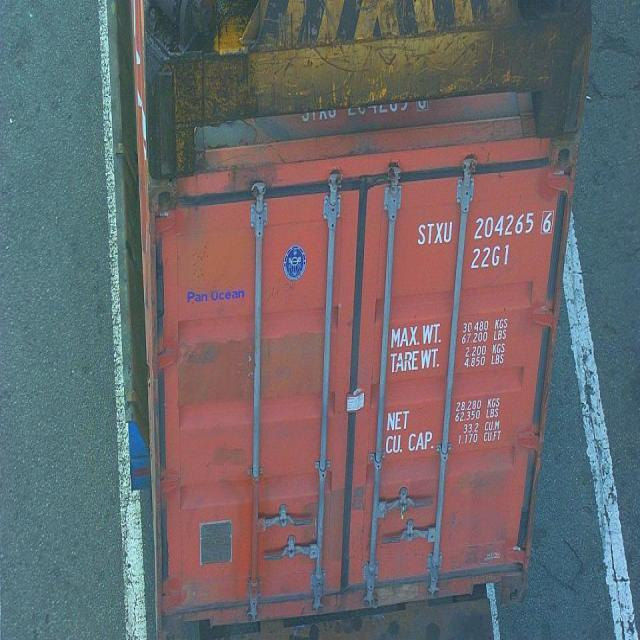ISO: (471, 246, 512, 269)
container_number: (418, 211, 550, 247)
